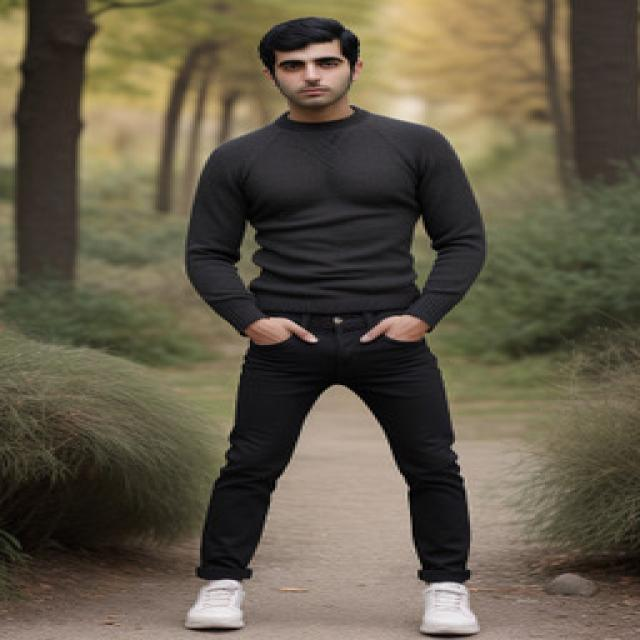Ai human 2: (145, 15, 515, 640)
